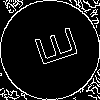E: (25, 25, 79, 71)
